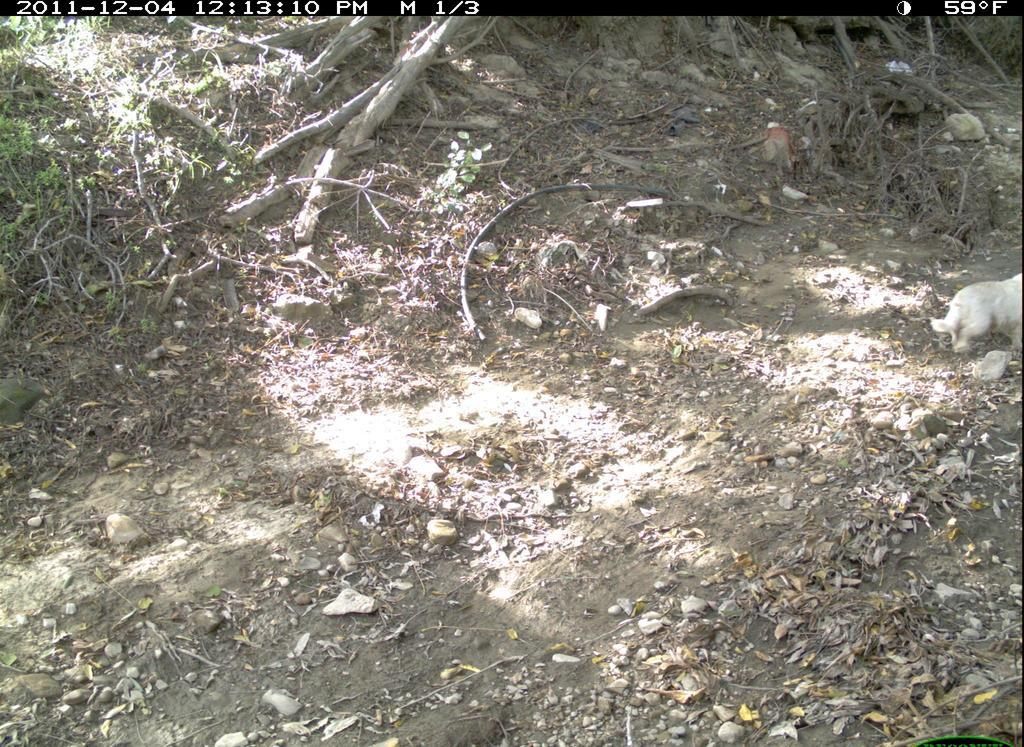dog: (925, 268, 1023, 378)
